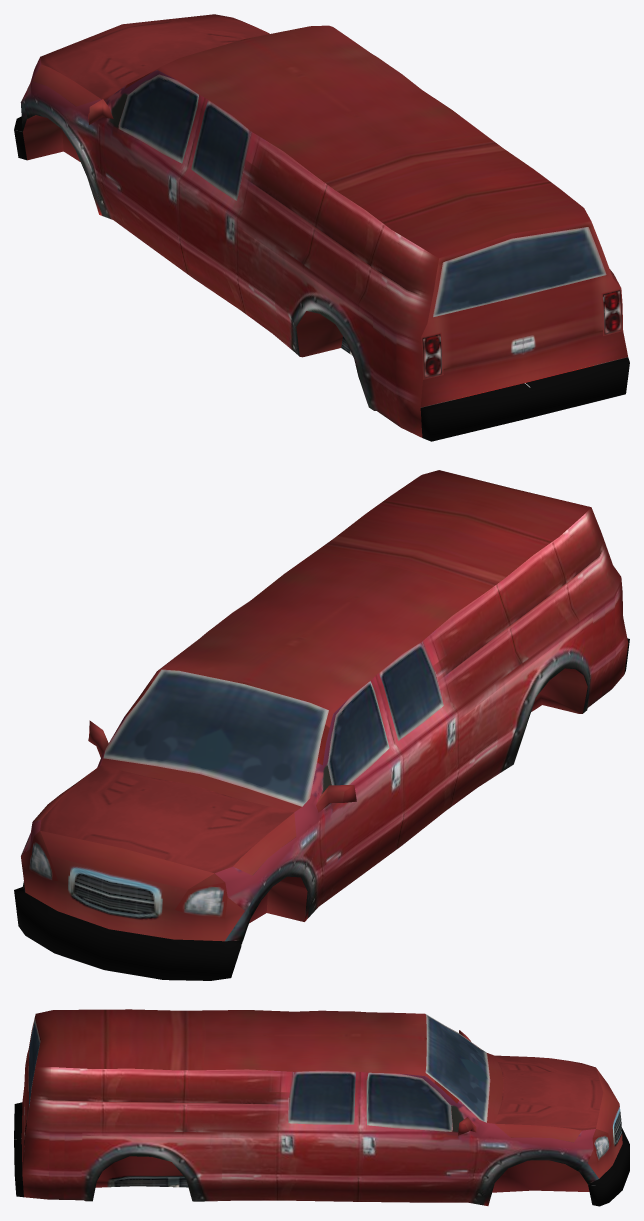
The model's file is pickup.fbx.
3 views of the same model, one above another, from view 1: azimuth 30°, elevation 25°; view 2: azimuth 150°, elevation 25°; view 3: azimuth 270°, elevation 25° (orthographic). The views are drawn at different scales.
Visible parts, largest first — view 1: objMesh; view 2: objMesh; view 3: objMesh.
Part boxes in pixels (x1,y1,x2,y2): objMesh: [14, 14, 629, 441]; objMesh: [14, 470, 629, 980]; objMesh: [14, 1009, 629, 1206].
Bounding box in the file's own units: 134 × 90.53 × 368.
Materials: 7 (7 with a texture image).
